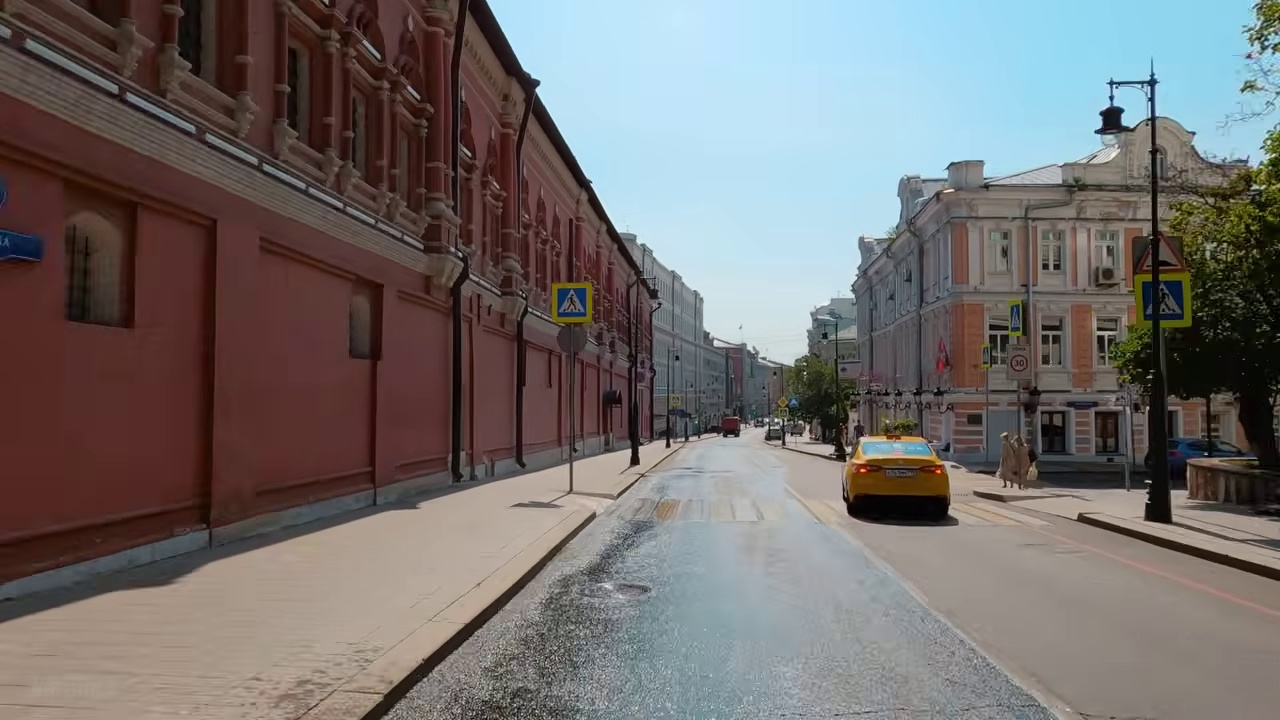apagada: (1094, 99, 1125, 150)
